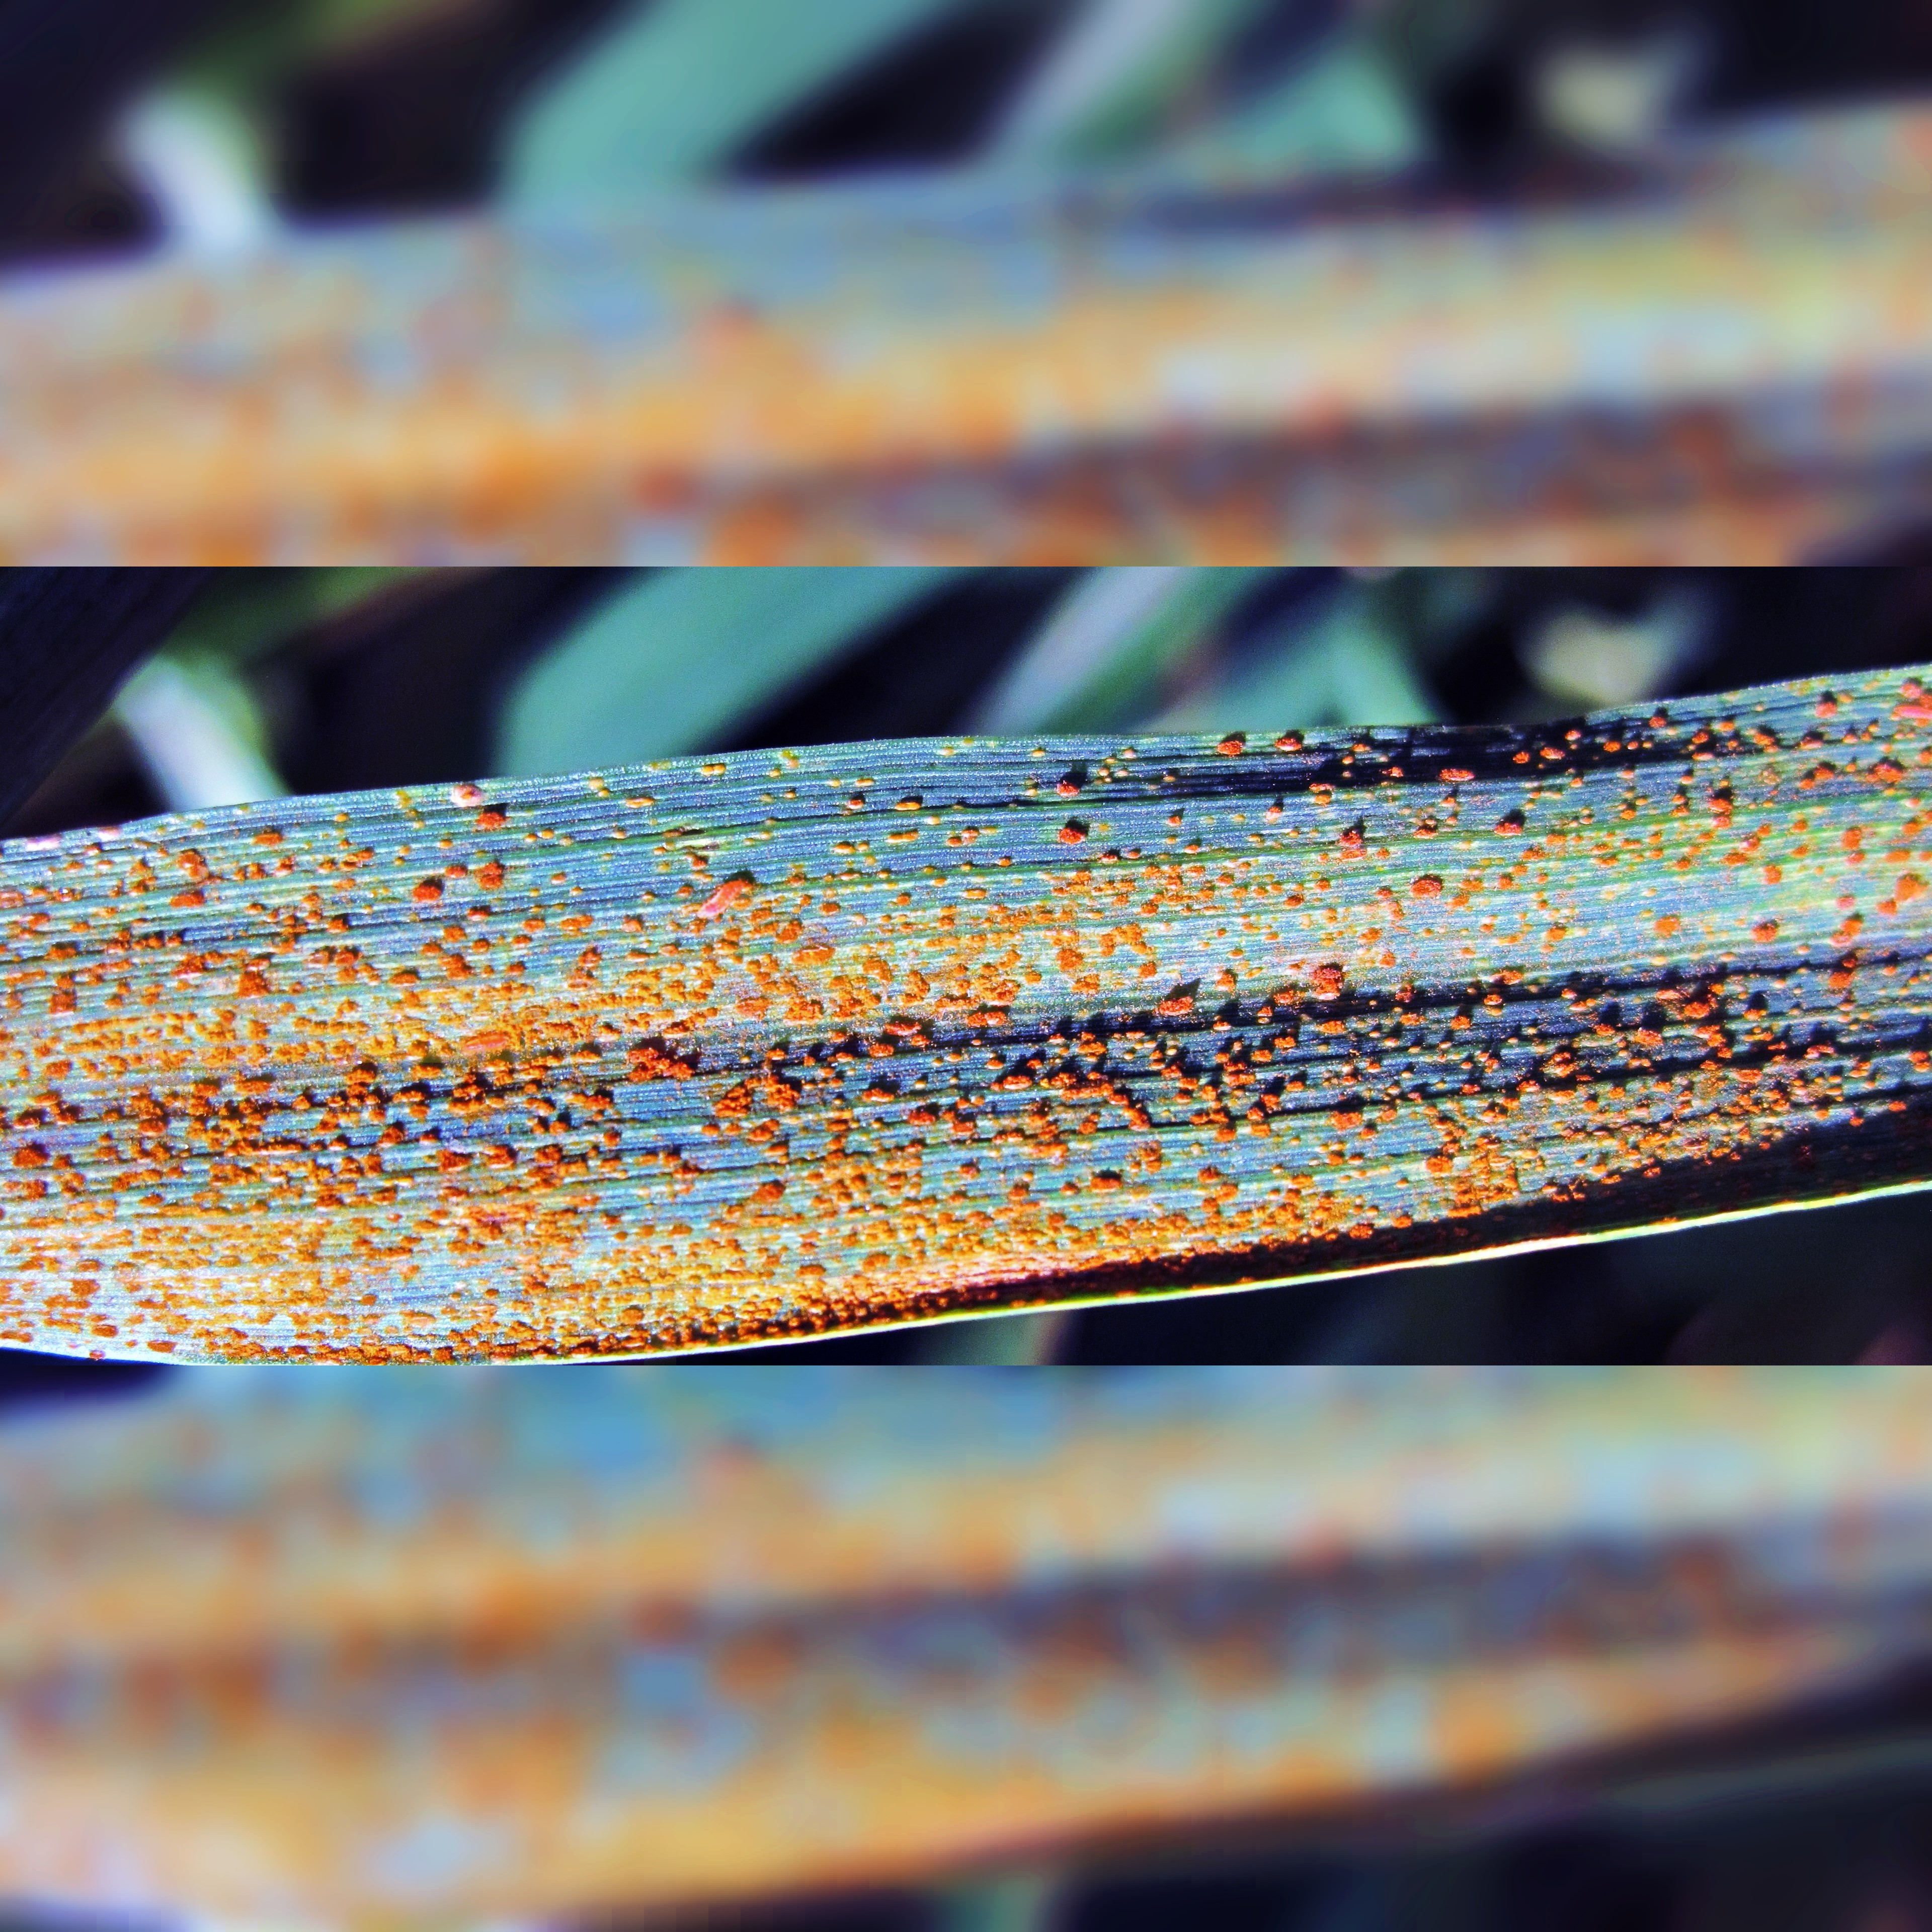Leaf Rust: (18, 674, 1923, 1366)
